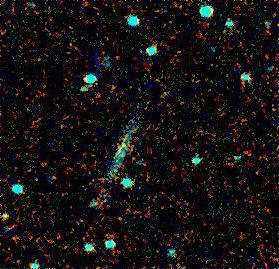star: (141, 69, 171, 99)
